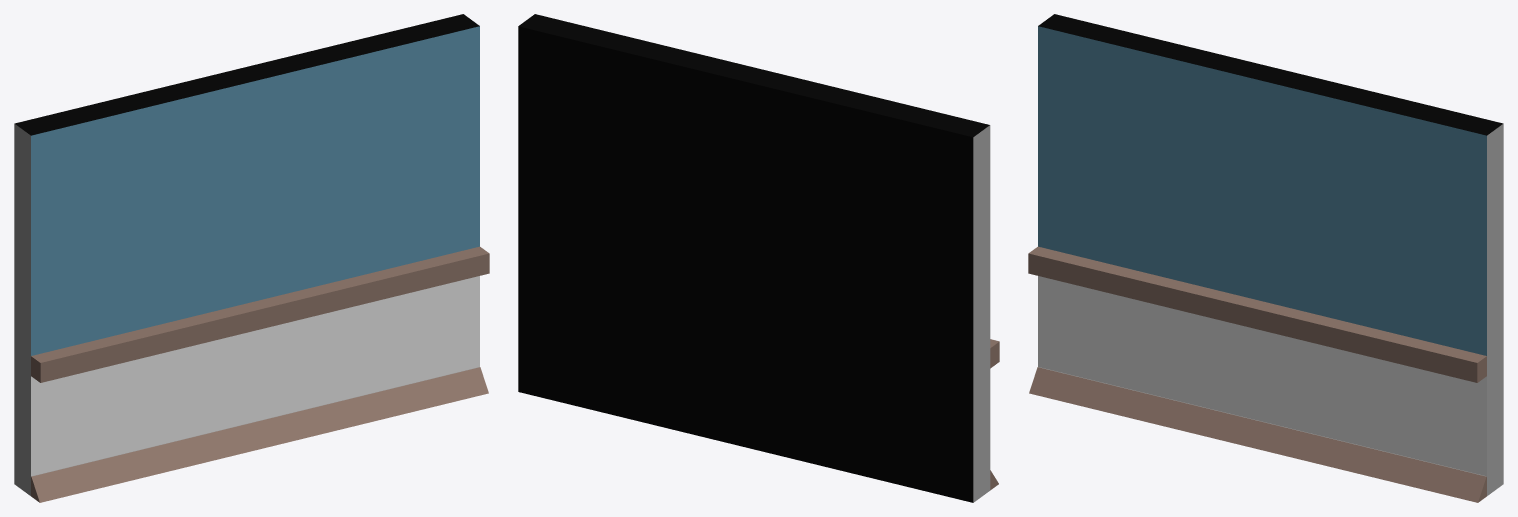
Rendered from mur.fbx.
3 views of the same model, side by side, from view 1: azimuth 30°, elevation 25°; view 2: azimuth 150°, elevation 25°; view 3: azimuth 330°, elevation 25° (orthographic).
Parts seen in each view (by area): view 1: mur; view 2: mur; view 3: mur.
Boxes of the visible parts, x1,y1,x2,y2 form: mur: (14,14,489,502); mur: (518,14,999,502); mur: (1028,14,1503,502).
Size of the model in its own units: 3.91 by 3 by 0.393.
